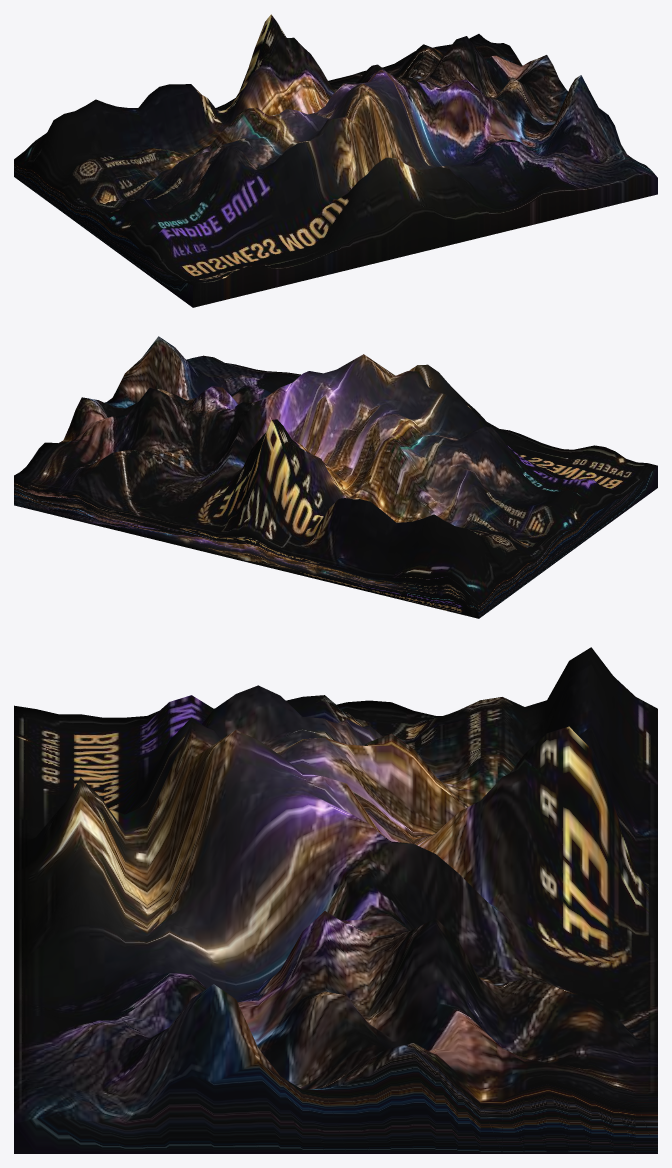
The model's file is CAREER_08_VFX_05_Empire.glb.
3 views of the same model, one above another, from view 1: azimuth 30°, elevation 25°; view 2: azimuth 150°, elevation 25°; view 3: azimuth 270°, elevation 25° (orthographic). The views are drawn at different scales.
Visible parts, largest first — view 1: CAREER_08_VFX_05_Empire; view 2: CAREER_08_VFX_05_Empire; view 3: CAREER_08_VFX_05_Empire.
Boxes of the visible parts, bbox=[...] form: CAREER_08_VFX_05_Empire: bbox=[14, 14, 657, 307]; CAREER_08_VFX_05_Empire: bbox=[14, 336, 657, 618]; CAREER_08_VFX_05_Empire: bbox=[14, 647, 657, 1153].
Bounding box in the file's own units: 2 × 0.51 × 1.33.
1 material, 1 textured.
